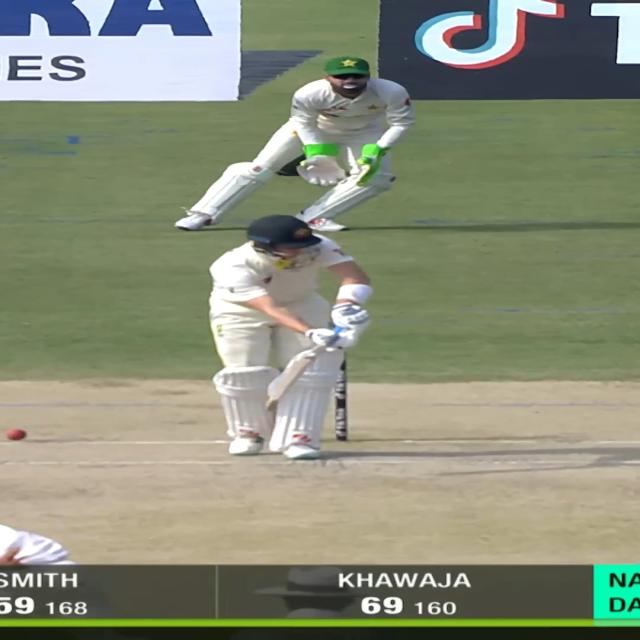Cricket ball: (5, 427, 29, 442)
